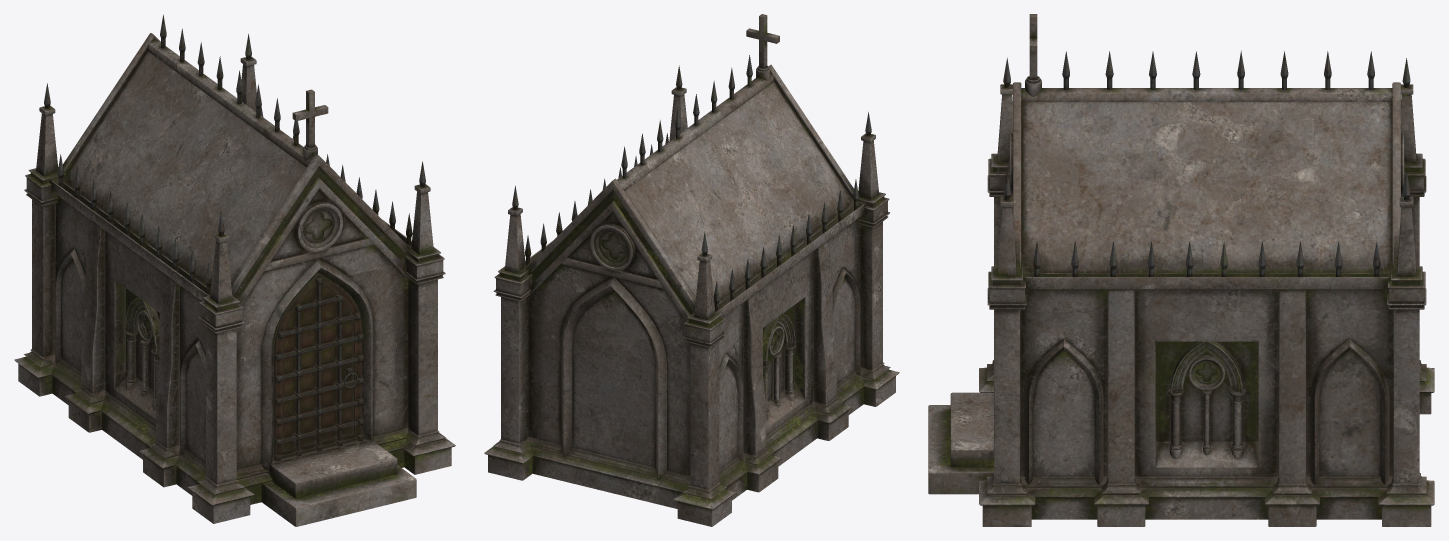
Rendered from SM_crypt_01.fbx.
3 views of the same model, side by side, from view 1: azimuth 30°, elevation 25°; view 2: azimuth 150°, elevation 25°; view 3: azimuth 270°, elevation 25° (orthographic). The views are drawn at different scales.
Parts seen in each view (by area): view 1: SM_crypt_01; view 2: SM_crypt_01; view 3: SM_crypt_01.
Boxes of the visible parts, bbox=[...] form: SM_crypt_01: bbox=[14, 14, 455, 526]; SM_crypt_01: bbox=[484, 14, 899, 526]; SM_crypt_01: bbox=[928, 14, 1434, 526].
Bounding box in the file's own units: 246 × 374 × 386.
